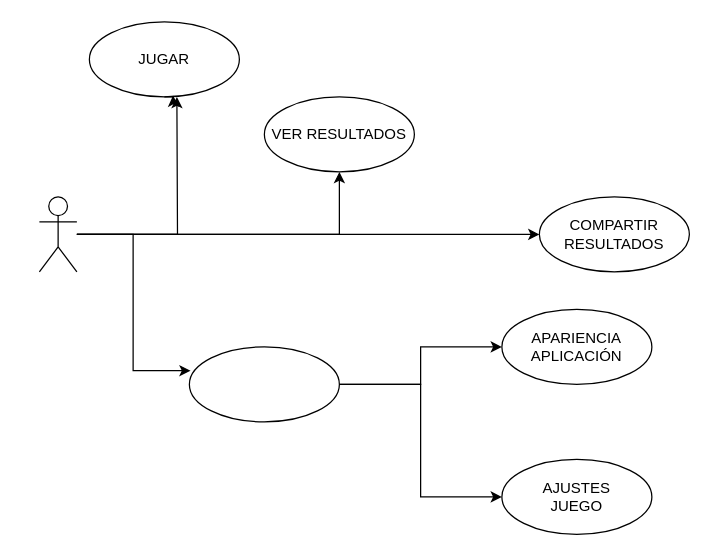
Some shapes in this 711 by 556 pixel diagram are drawn without their labels. The shapes that lost their labels are listed below. From the top down, each one's box as (x1, y1, x2, y2) in pixels, then its label:
(38, 196, 77, 272): JUGADOR
(188, 346, 339, 422): GESTIONAR PREFERENCIAS
